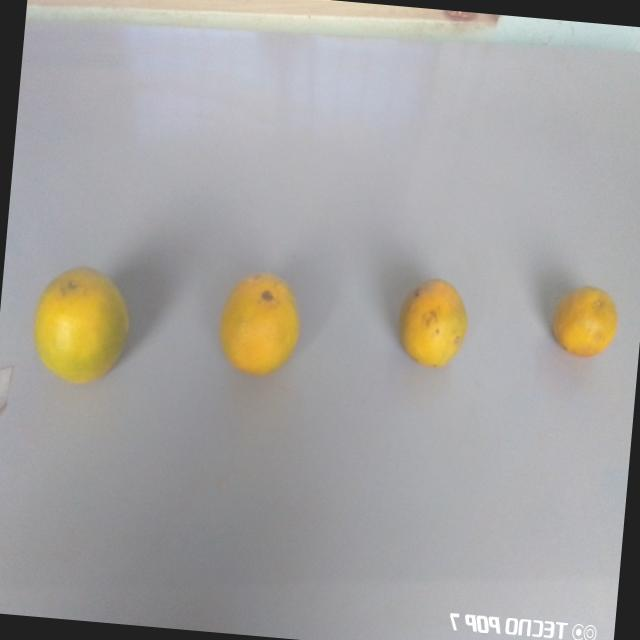Ripe orange: (19, 253, 138, 406), (214, 262, 303, 383), (390, 270, 476, 380), (552, 268, 622, 369)
